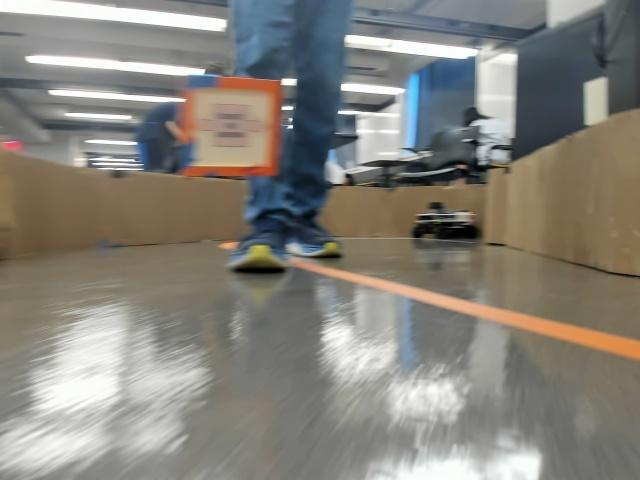Do Not Go Around: (199, 104, 267, 145)
